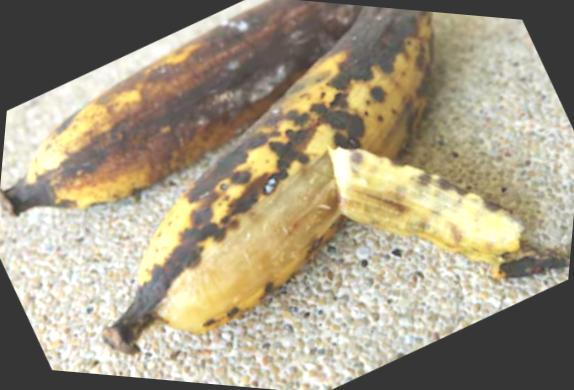Banana Overripe: (0, 0, 498, 390)
